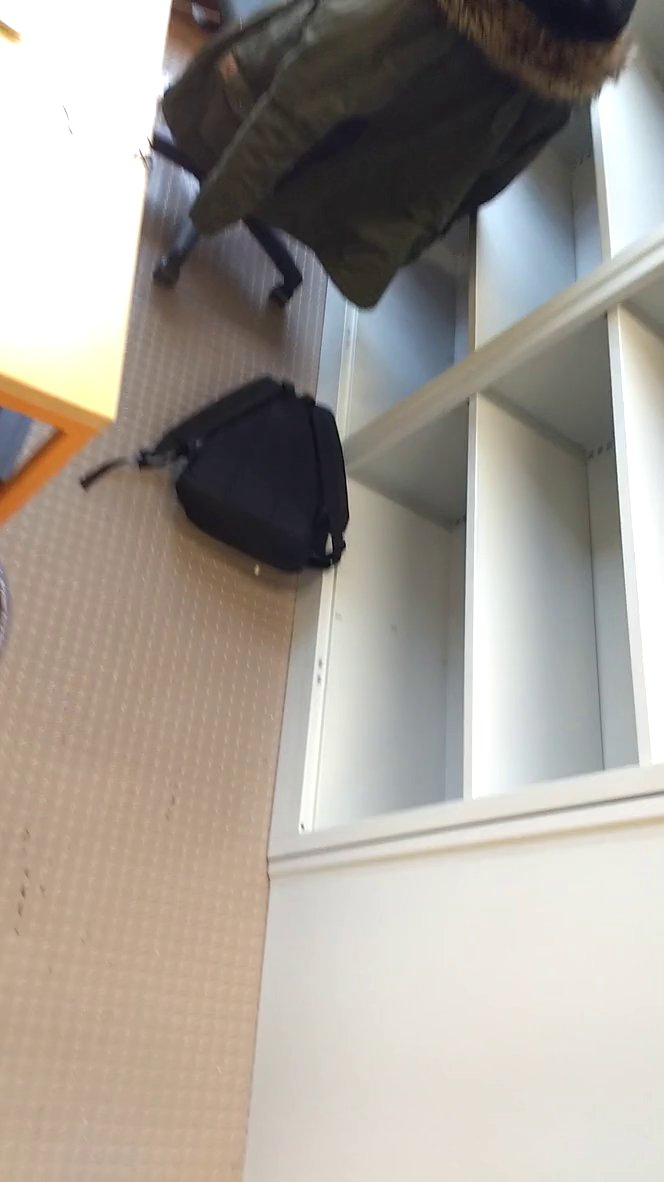bag: (108, 366, 354, 595)
